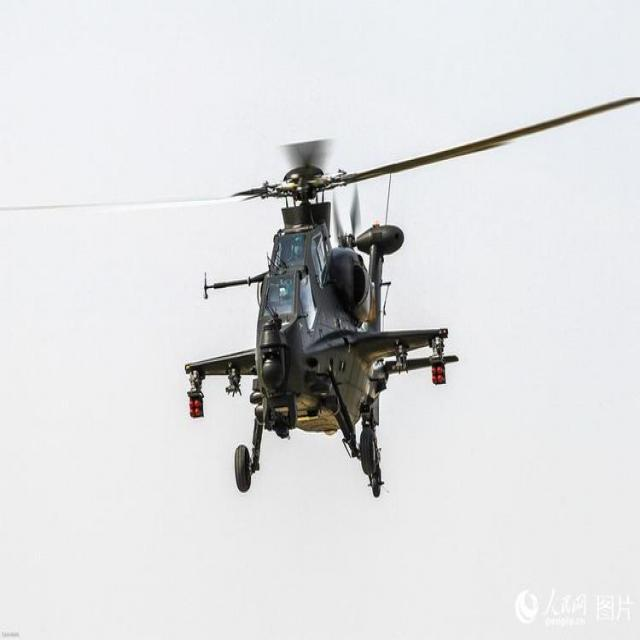MIL_HELO: (0, 94, 640, 500)
